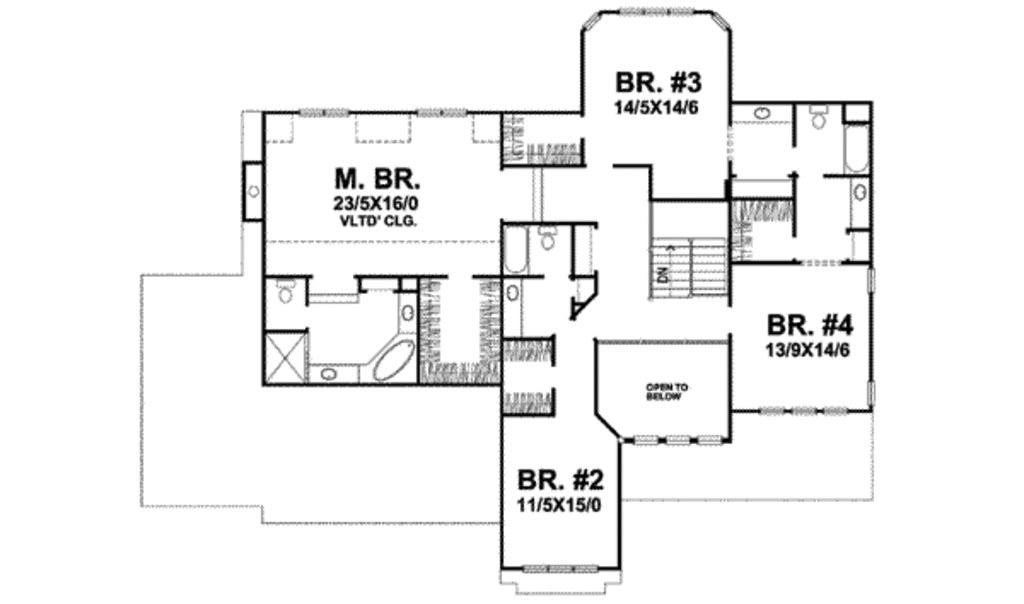large_sink: (808, 101, 831, 139), (537, 225, 562, 258), (277, 273, 297, 311)
small_sink: (737, 97, 786, 126), (500, 282, 528, 315), (314, 358, 344, 383), (394, 301, 422, 323)
stairs: (643, 211, 732, 303)
tub: (496, 220, 534, 276), (375, 336, 415, 381), (843, 120, 869, 175)
window: (583, 5, 733, 28), (751, 399, 846, 417), (630, 434, 721, 451), (519, 560, 603, 578), (292, 103, 351, 126), (414, 100, 468, 120), (862, 367, 882, 410), (864, 263, 877, 295)
